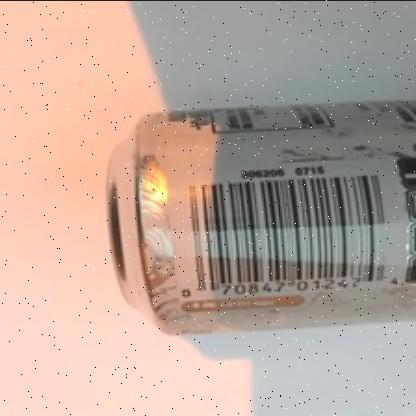Can: (106, 97, 416, 335)
